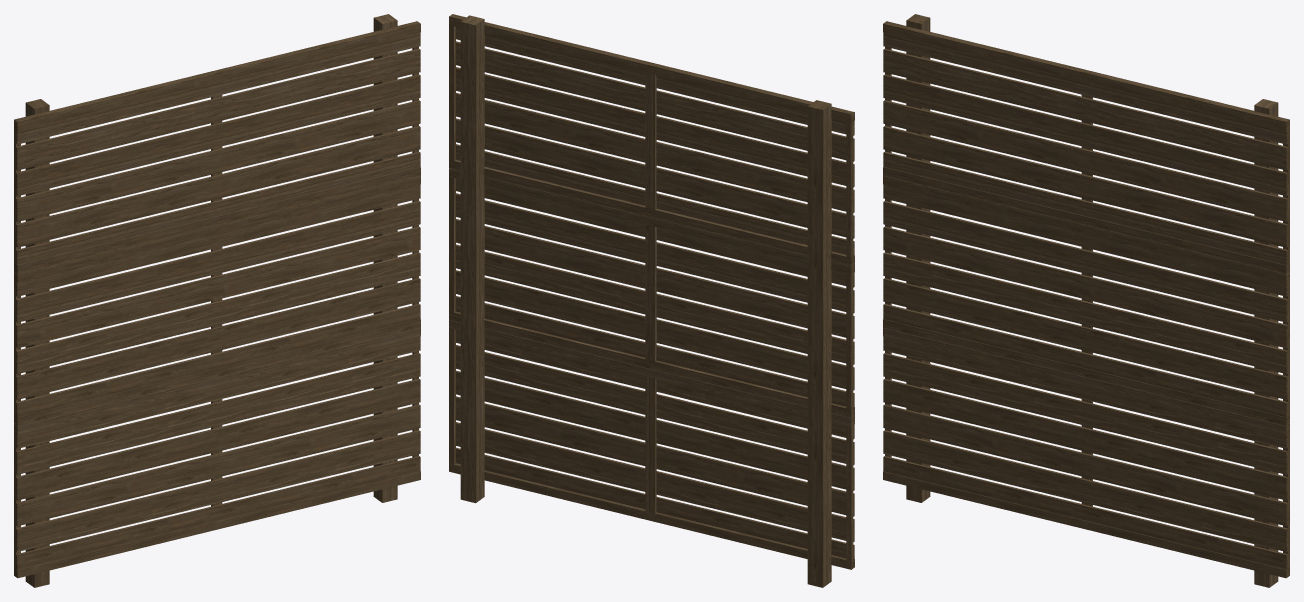
The model's file is eafyokoita-tadan_h24_brownebony.fbx.
The picture shows the model from 3 angles, left to right: view 1: azimuth 30°, elevation 25°; view 2: azimuth 150°, elevation 25°; view 3: azimuth 330°, elevation 25°; orthographic projection.
Parts seen in each view (by area): view 1: eafyokoita-tadan_h24_brownebony; view 2: eafyokoita-tadan_h24_brownebony; view 3: eafyokoita-tadan_h24_brownebony.
Part boxes in pixels (<box>): eafyokoita-tadan_h24_brownebony: <box>14,14,420,587</box>; eafyokoita-tadan_h24_brownebony: <box>449,14,854,587</box>; eafyokoita-tadan_h24_brownebony: <box>883,14,1289,587</box>.
Size of the model in its own units: 200 by 227 by 10.25.
1 material, 1 textured.
